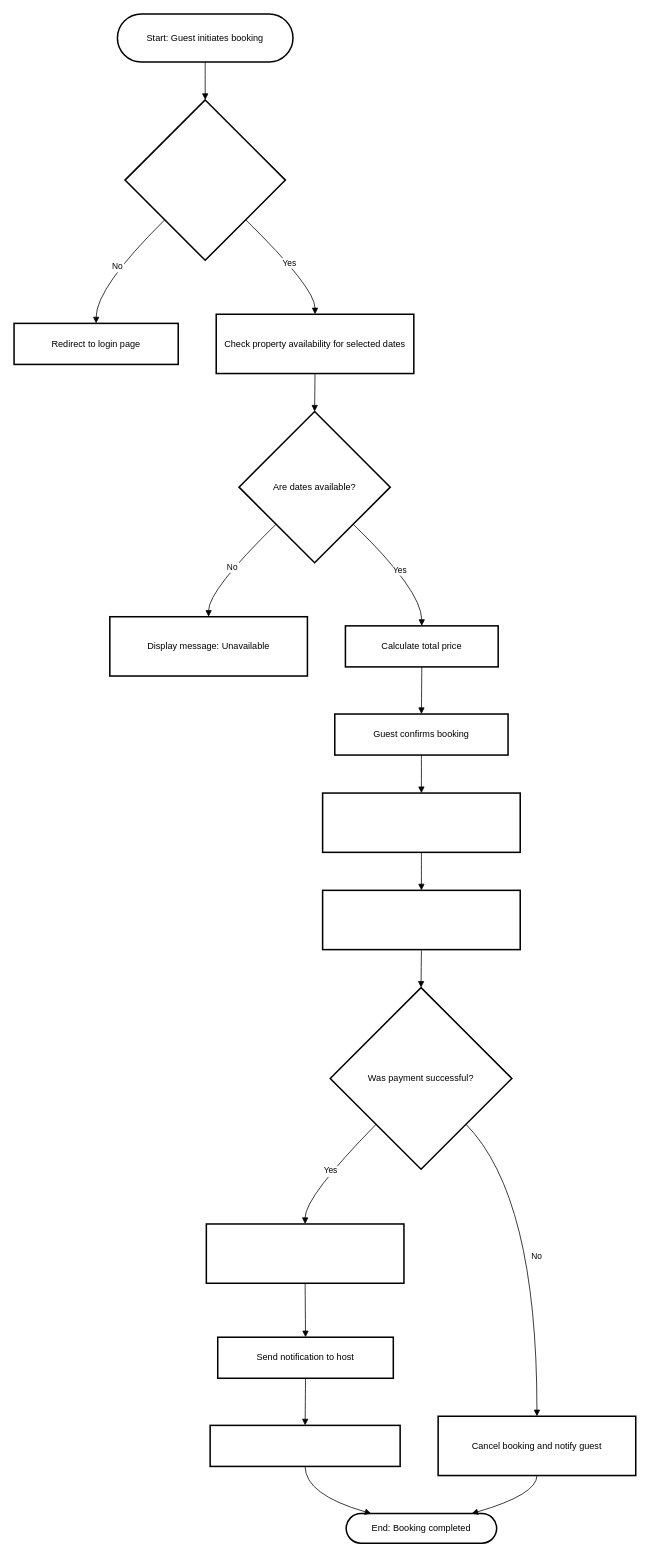
This 649x1556 diagram has some shape labels left out. The box of each missing label's shape, as (x1, y1, x2, y2) in pixels:
Insert booking in database - status pending: (321, 792, 521, 853)
Is user authenticated?: (124, 99, 286, 261)
Redirect to payment gateway: (321, 889, 521, 950)
Send confirmation to guest: (209, 1424, 401, 1467)
Update booking status to confirmed: (205, 1223, 404, 1284)
